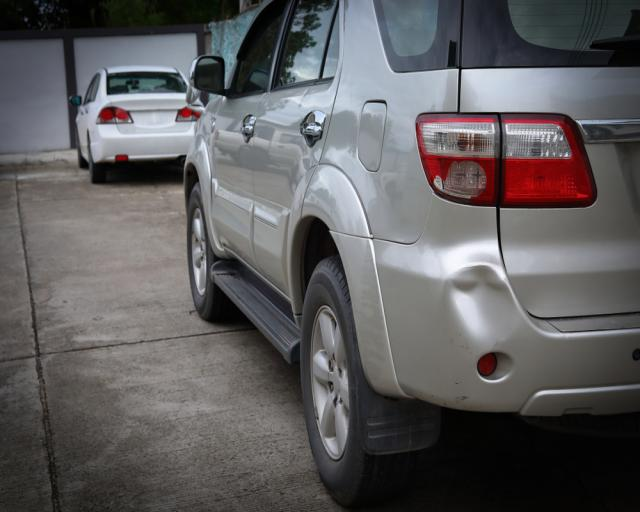dent: (451, 266, 518, 345)
lamp broken: (415, 113, 502, 205)
